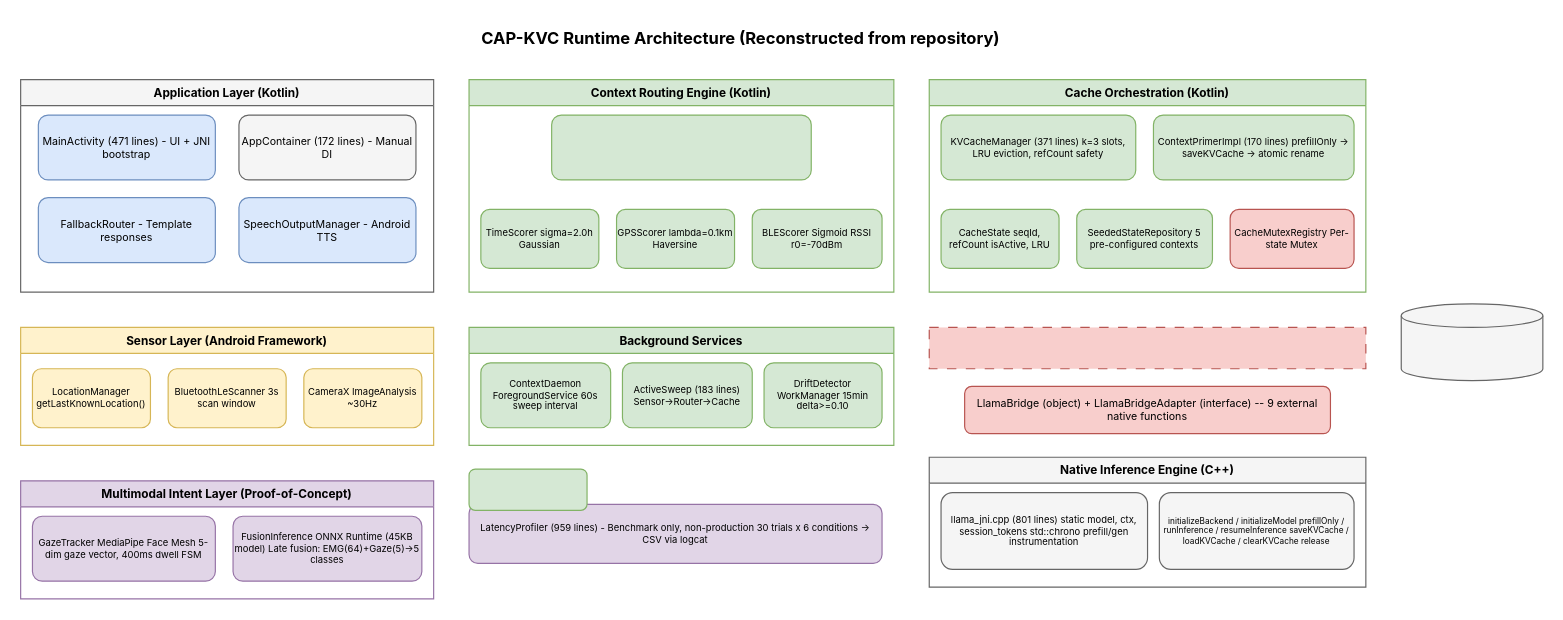
Some shapes in this 1563 by 620 pixel diagram are drawn without their labels. The shapes that lost their labels are listed below. From the top down, each one's centre as x and y in pixels, then its label:
the point at 680,147: StateRouter (214 lines) Convex scoring S(c_i) = a*S_time + b*S_gps + g*S_ble
the point at 1147,347: JNI Boundary -- engineLock (ReentrantLock) serializes ALL native access
the point at 1471,342: Persistent Storage kv_cache/*.bin (raw, unencrypted)
the point at 527,489: BootReceiver BOOT_COMPLETED MY_PACKAGE_REPLACED
